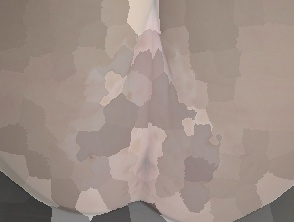vitiligo: (60, 0, 237, 222)
